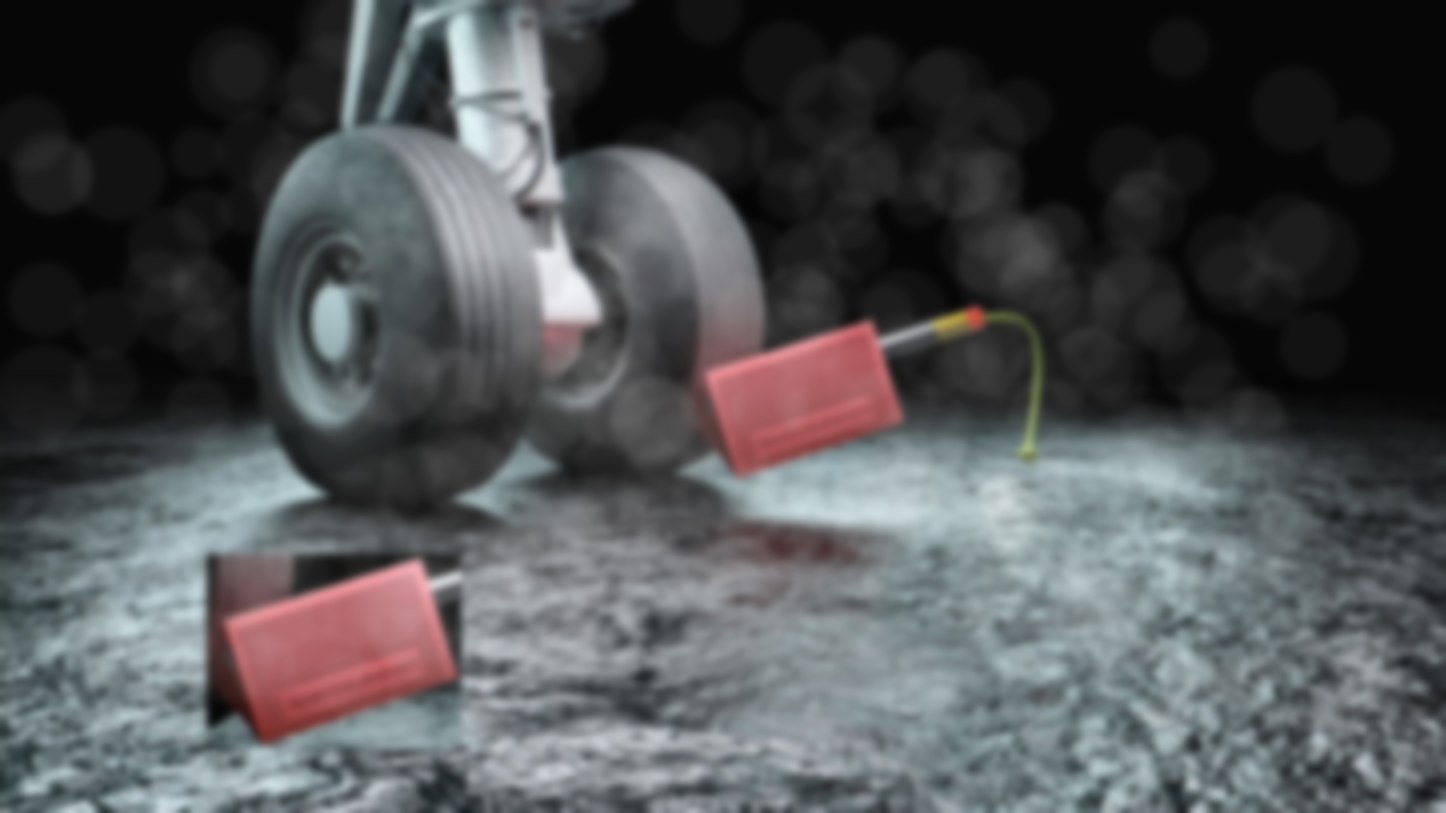chock: (206, 554, 462, 747), (690, 316, 907, 481)
wheel: (246, 120, 542, 508), (511, 142, 764, 479)
